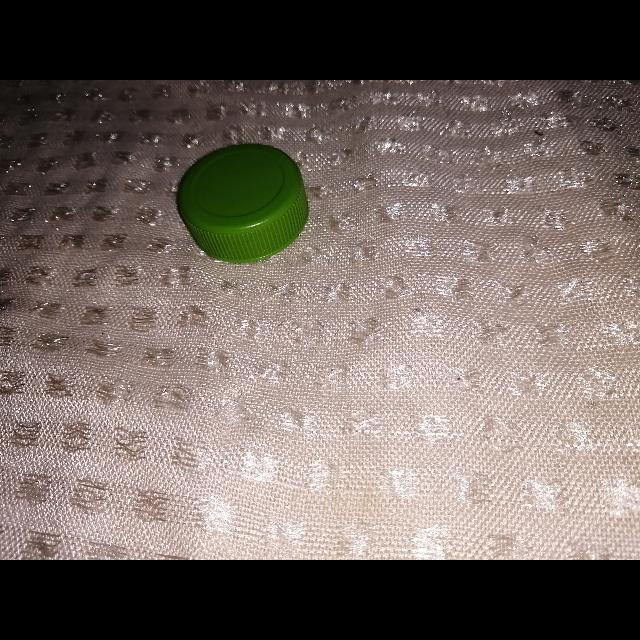plastic_bottle_cap: (179, 142, 309, 264)
